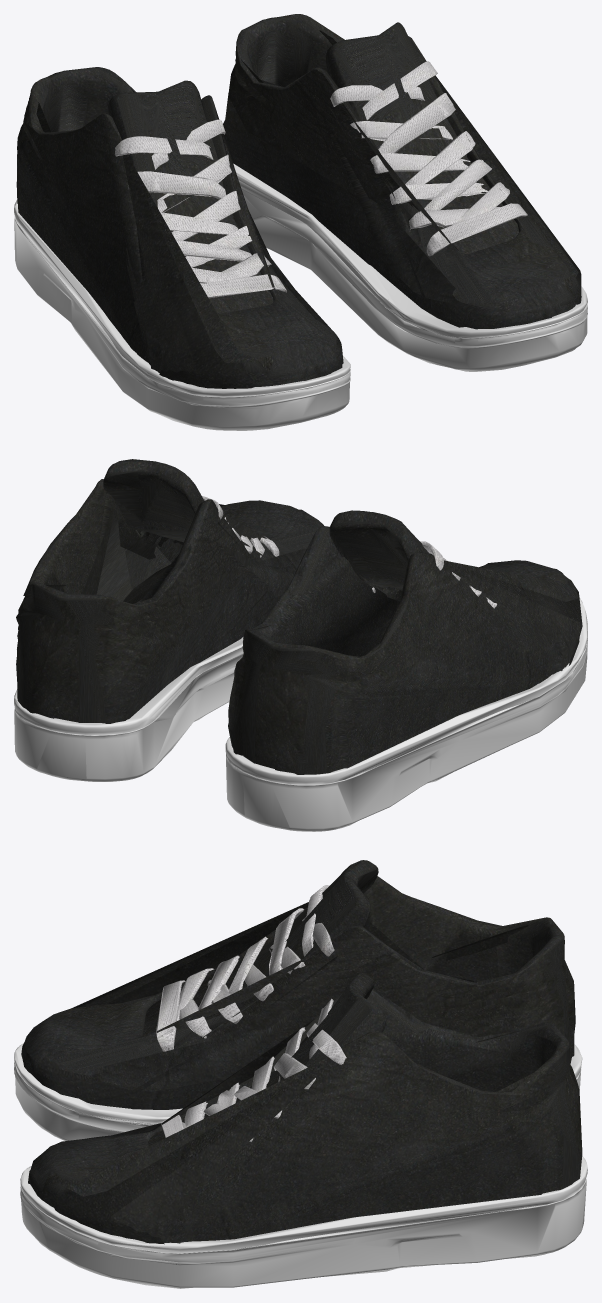
Rendered from shoes.FBX.
3 views of the same model, one above another, from view 1: azimuth 30°, elevation 25°; view 2: azimuth 150°, elevation 25°; view 3: azimuth 270°, elevation 25° (orthographic). The views are drawn at different scales.
Parts seen in each view (by area): view 1: Object005, Object002, Object001, Object006, Object003, Object004; view 2: Object005, Object002, Object006, Object001, Object003; view 3: Object002, Object005, Object001, Object004, Object006, Object003.
Boxes of the visible parts, bbox=[...] form: Object005: bbox=[16, 67, 343, 388]; Object002: bbox=[223, 14, 581, 329]; Object001: bbox=[233, 163, 587, 371]; Object006: bbox=[14, 200, 350, 430]; Object003: bbox=[330, 61, 527, 256]; Object004: bbox=[115, 119, 286, 298]; Object005: bbox=[228, 510, 582, 774]; Object002: bbox=[16, 459, 323, 723]; Object006: bbox=[225, 597, 587, 831]; Object001: bbox=[14, 637, 243, 781]; Object003: bbox=[202, 496, 279, 557]; Object002: bbox=[28, 972, 582, 1244]; Object005: bbox=[21, 860, 575, 1109]; Object001: bbox=[20, 1156, 587, 1288]; Object004: bbox=[156, 885, 334, 1051]; Object006: bbox=[14, 1043, 582, 1140]; Object003: bbox=[161, 998, 346, 1141].
Bounding box in the file's own units: 25.04 × 13.59 × 28.01.
